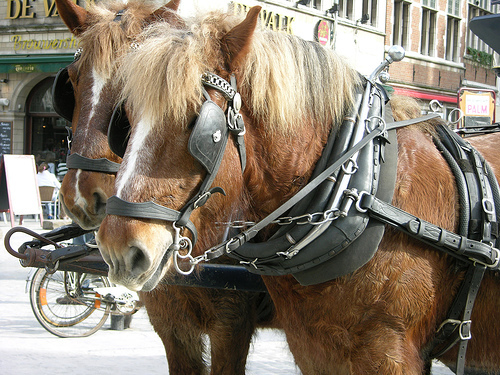horse: (92, 3, 500, 375), (53, 1, 324, 375)
